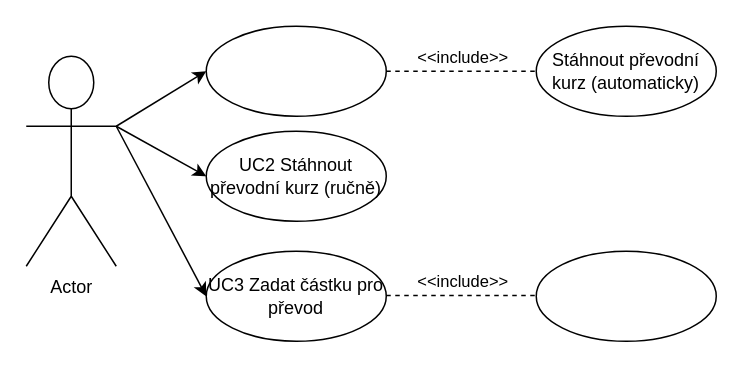
Image size: 743x368. Some labels were removed from this diagram. Each missing label, with the box of its shape:
Přepočet do cizí měny real-time: (535, 250, 716, 341)
UC1 Vybrat měnu pro převod: (205, 25, 386, 116)
